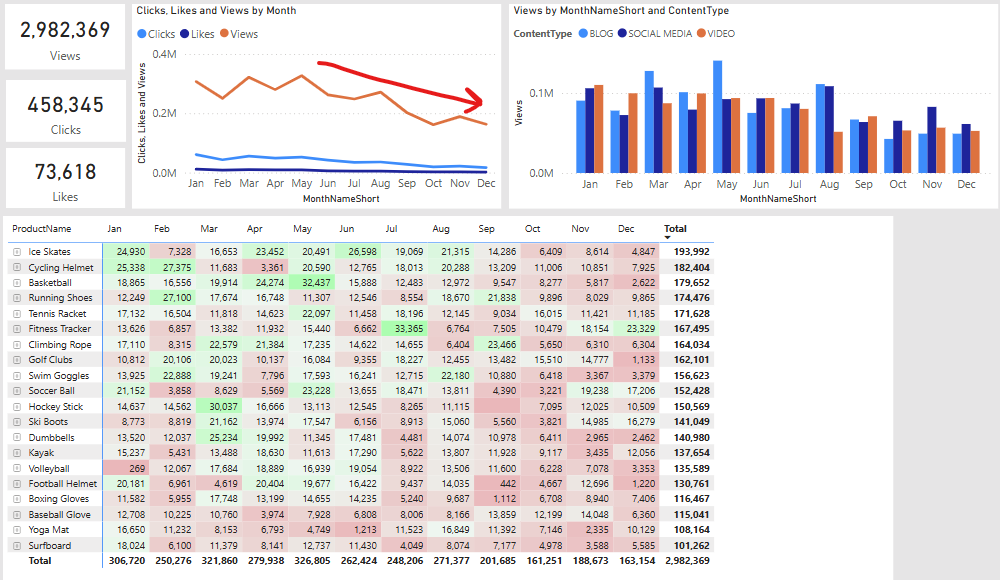

Layout of this report page (visuals, bound fields, positions):
{"tool":"powerbi","page":{"name":"Social Media","canvas":[1280,720],"ordinal":2},"visuals":[{"type":"textbox","box":[10,0,1256.4,75.5],"z":0},{"type":"slicer","fields":{"Values":["dim_products.ProductName"]},"box":[0,84.5,163.6,635.5],"z":1000},{"type":"card","fields":{"Values":["_Calculations.Views"]},"box":[173.6,84.5,131.8,71.8],"z":2000},{"type":"card","fields":{"Values":["_Calculations.Clicks"]},"box":[174.5,168.2,131.8,68.2],"z":3000},{"type":"card","fields":{"Values":["_Calculations.Likes"]},"box":[174.5,242.7,130.9,66.4],"z":4000},{"type":"slicer","fields":{"Values":["Calendar.Year"]},"box":[285.5,4.5,280,64.5],"z":5000},{"type":"slicer","fields":{"Values":["Calendar.MonthNameShort"]},"box":[556.4,4.5,693.6,64.5],"z":6000},{"type":"lineChart","title":"Clicks, Likes and Views by Month","fields":{"Y":["_Calculations.Clicks","_Calculations.Likes","_Calculations.Views"],"Category":["Calendar.MonthNameShort"]},"box":[313.6,84.5,406.4,224.5],"z":7000},{"type":"clusteredColumnChart","fields":{"Category":["Calendar.MonthNameShort"],"Y":["_Calculations.Views"],"Series":["fact_engagement_data.ContentType"]},"box":[728.2,84.5,538.2,224.5],"z":8000},{"type":"pivotTable","fields":{"Rows":["dim_products.ProductName","fact_engagement_data.ContentType"],"Columns":["Calendar.MonthNameShort"],"Values":["_Calculations.Views"]},"box":[171.8,318.2,979.1,401.8],"z":9000}]}

Visuals, with their boxes on the page's 1280x720 design canvas (x1, y1, x2, y2). These are canvas units, not pixel positions in the 1000x580 screenshot, which may show the page scaled, cropped or inside an application window:
textbox: bbox(10, 0, 1266, 76)
slicer - dim_products.ProductName: bbox(0, 84, 164, 720)
card - _Calculations.Views: bbox(174, 84, 305, 156)
card - _Calculations.Clicks: bbox(174, 168, 306, 236)
card - _Calculations.Likes: bbox(174, 243, 305, 309)
slicer - Calendar.Year: bbox(286, 4, 566, 69)
slicer - Calendar.MonthNameShort: bbox(556, 4, 1250, 69)
"Clicks, Likes and Views by Month" lineChart: bbox(314, 84, 720, 309)
clusteredColumnChart - Calendar.MonthNameShort x _Calculations.Views: bbox(728, 84, 1266, 309)
pivotTable - dim_products.ProductName x fact_engagement_data.ContentType: bbox(172, 318, 1151, 720)
